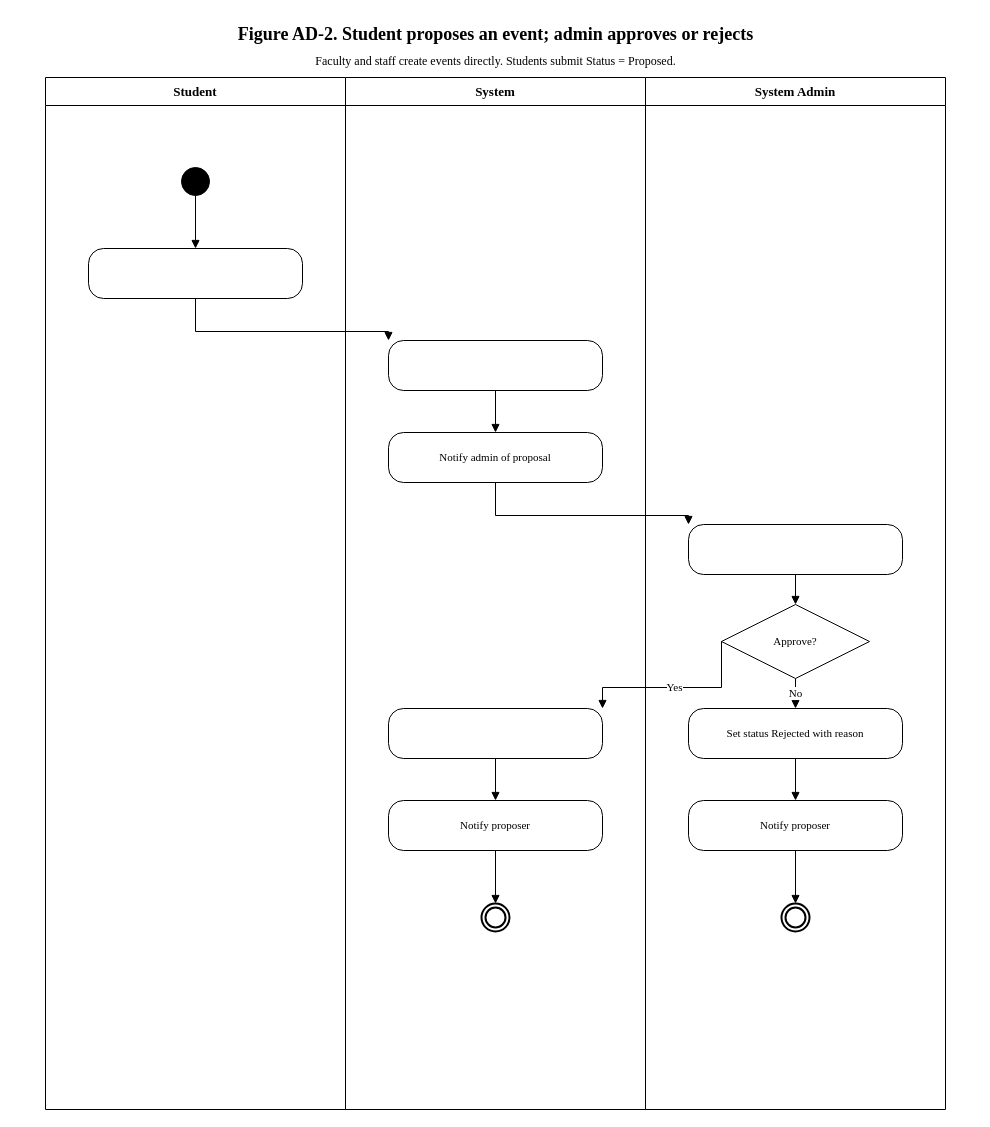
The diagram is 990 pixels wide and 1127 high, and some of its shapes have lost their labels. Here are the shapes that lost their labels. From the top down, the centre of each, then its label:
At (x=195, y=273): "Fill propose-event form (lead must be faculty/staff)".
At (x=495, y=365): "Save event as Proposed".
At (x=795, y=549): "Review proposal".
At (x=495, y=733): "Set status Planned and add event lead".
